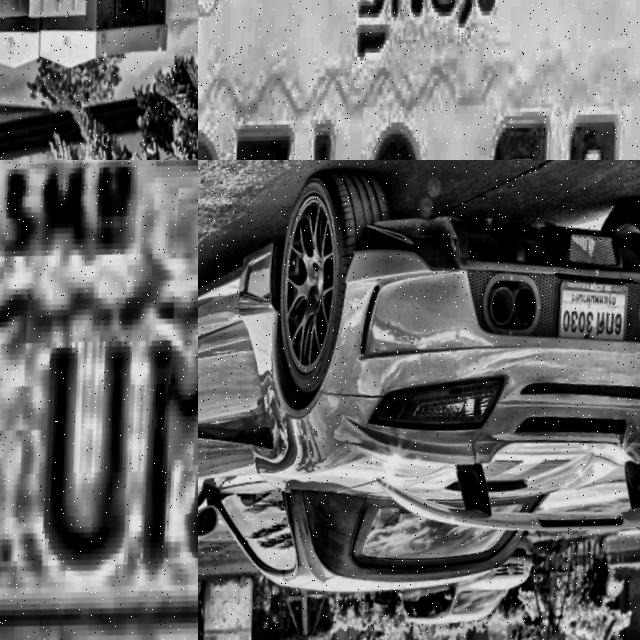license-plate: (0, 160, 198, 640), (198, 0, 640, 160), (552, 281, 627, 358)
